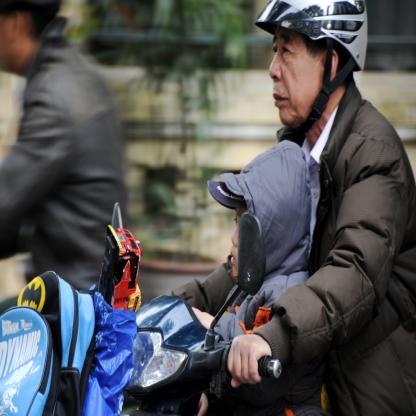Helmet: (257, 0, 376, 130)
